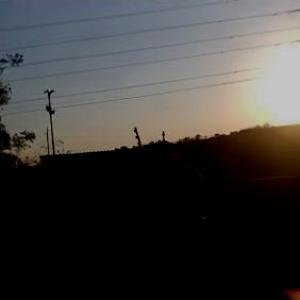follow: (140, 160, 248, 299)
